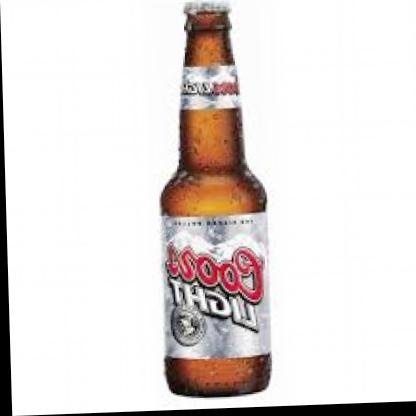trash: (161, 3, 270, 396)
